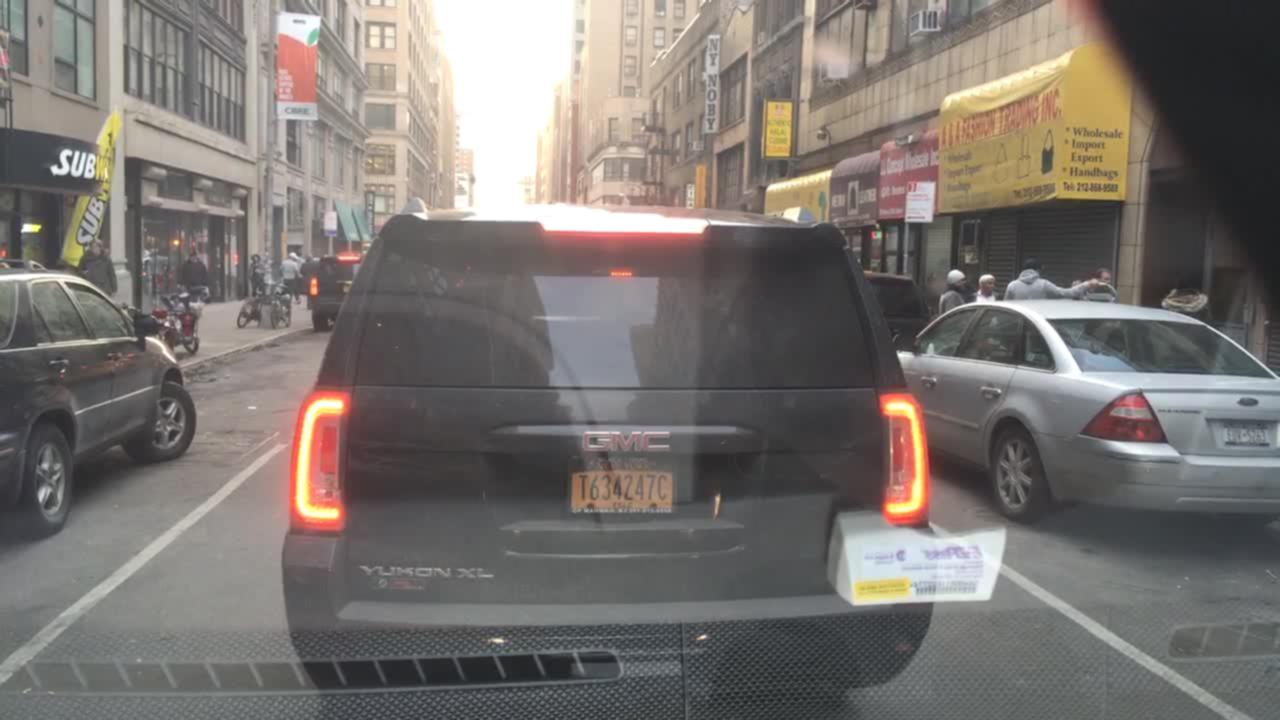GMC: (566, 413, 707, 467)
